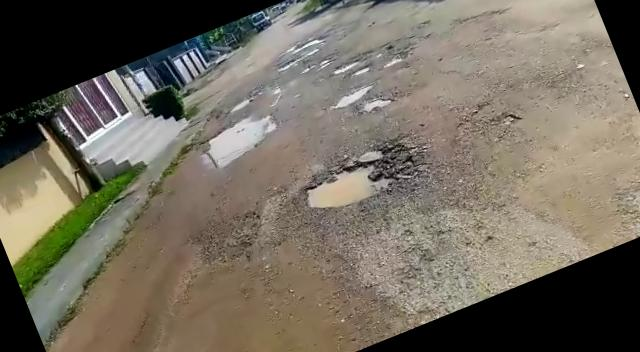pothole: (294, 141, 412, 223), (195, 105, 288, 176), (326, 81, 378, 112), (352, 89, 400, 119), (324, 52, 370, 78), (300, 52, 338, 74), (379, 51, 408, 70), (228, 97, 255, 114), (348, 64, 372, 78)
